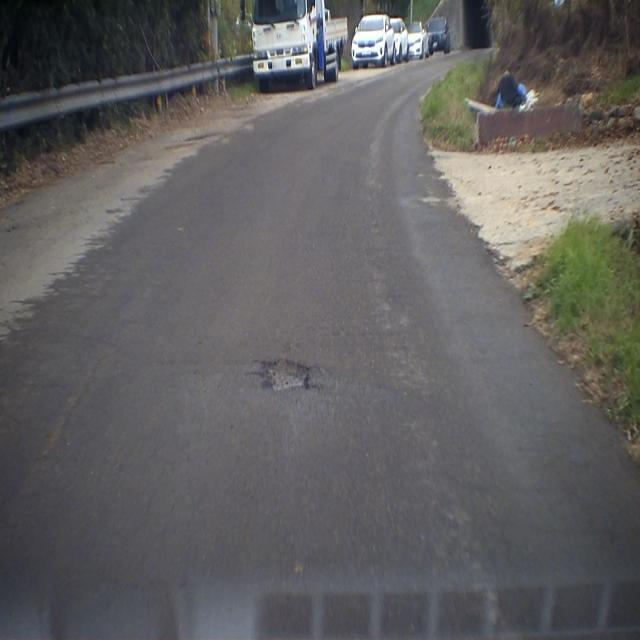pothole: (252, 351, 324, 402)
